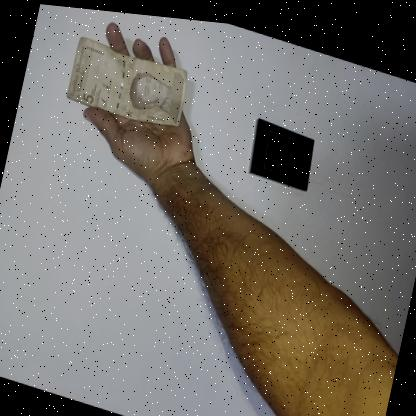five-front-vef: (65, 31, 191, 132)
